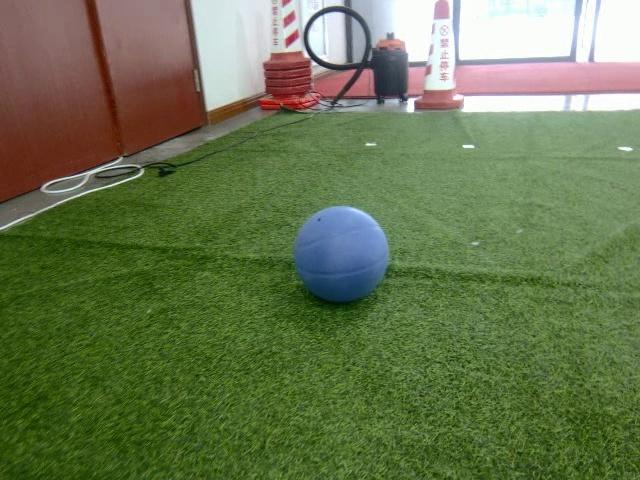blue_ball: (295, 207, 390, 304)
